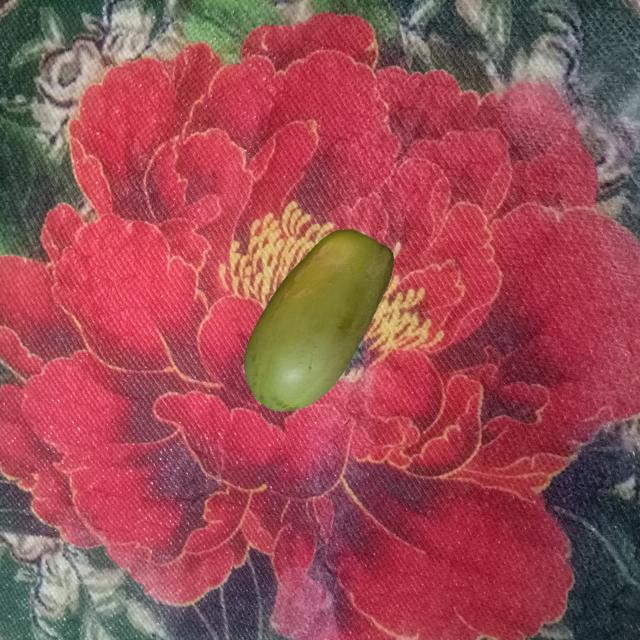Pepaya unrippen: (235, 227, 395, 417)
